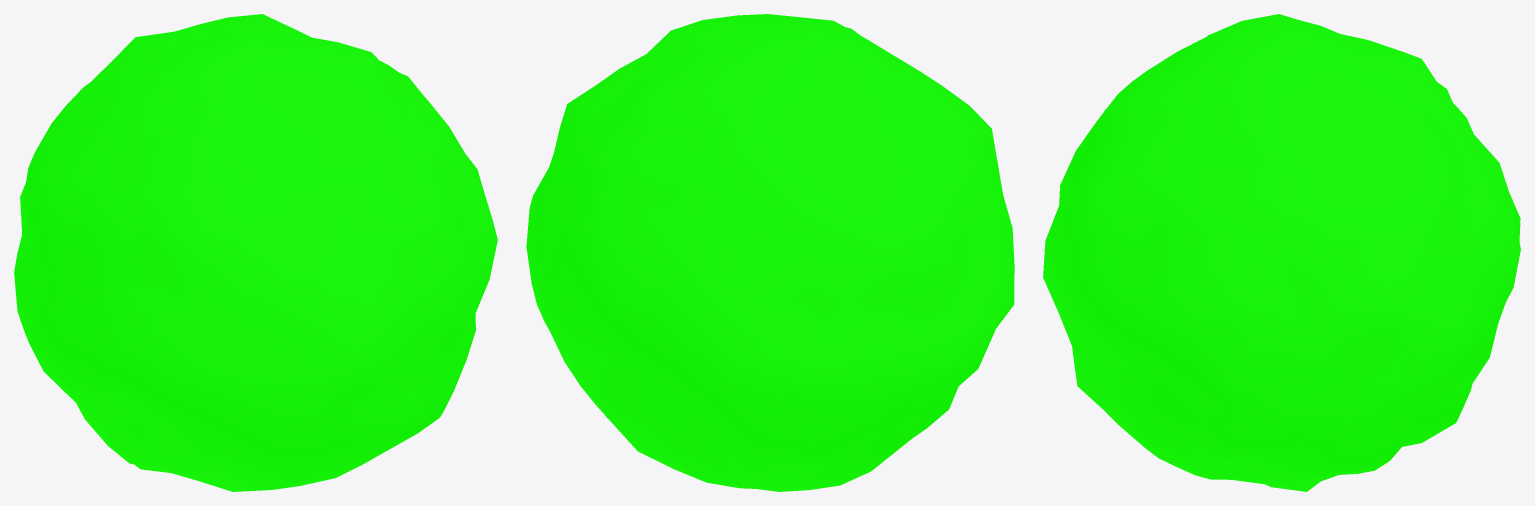
File: portal_plasma_fog.glb
3 renders of one model, left to right at view 1: azimuth 30°, elevation 25°; view 2: azimuth 150°, elevation 25°; view 3: azimuth 270°, elevation 25°, orthographic.
Parts seen in each view (by area): view 1: Plasma_Fog_Sphere_1; view 2: Plasma_Fog_Sphere_1; view 3: Plasma_Fog_Sphere_1.
Boxes of the visible parts, x1=… form: Plasma_Fog_Sphere_1: x1=14, y1=14, x2=497, y2=491; Plasma_Fog_Sphere_1: x1=526, y1=14, x2=1014, y2=491; Plasma_Fog_Sphere_1: x1=1043, y1=14, x2=1520, y2=491.
Bounding box in the file's own units: 2.14 × 2.17 × 2.18.
